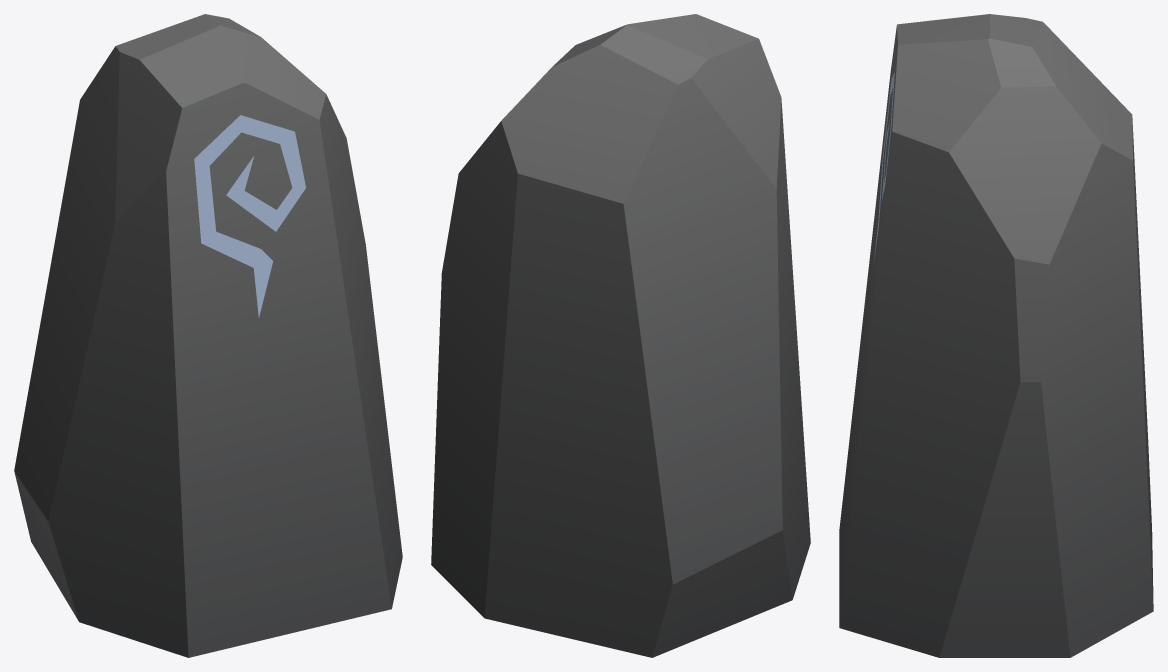
The model's file is MagicRock_02.fbx.
The picture shows the model from 3 angles, left to right: view 1: azimuth 30°, elevation 25°; view 2: azimuth 150°, elevation 25°; view 3: azimuth 270°, elevation 25°; orthographic projection.
Parts seen in each view (by area): view 1: MagicRock_02_LOD0; view 2: MagicRock_02_LOD0; view 3: MagicRock_02_LOD0.
Part boxes in pixels (box(x1,y1,x2,y2)): MagicRock_02_LOD0: box(14, 14, 402, 657); MagicRock_02_LOD0: box(431, 14, 810, 657); MagicRock_02_LOD0: box(839, 14, 1153, 657).
Size of what is drawn, in the model's own units: 1.16 by 1.89 by 0.9884.
